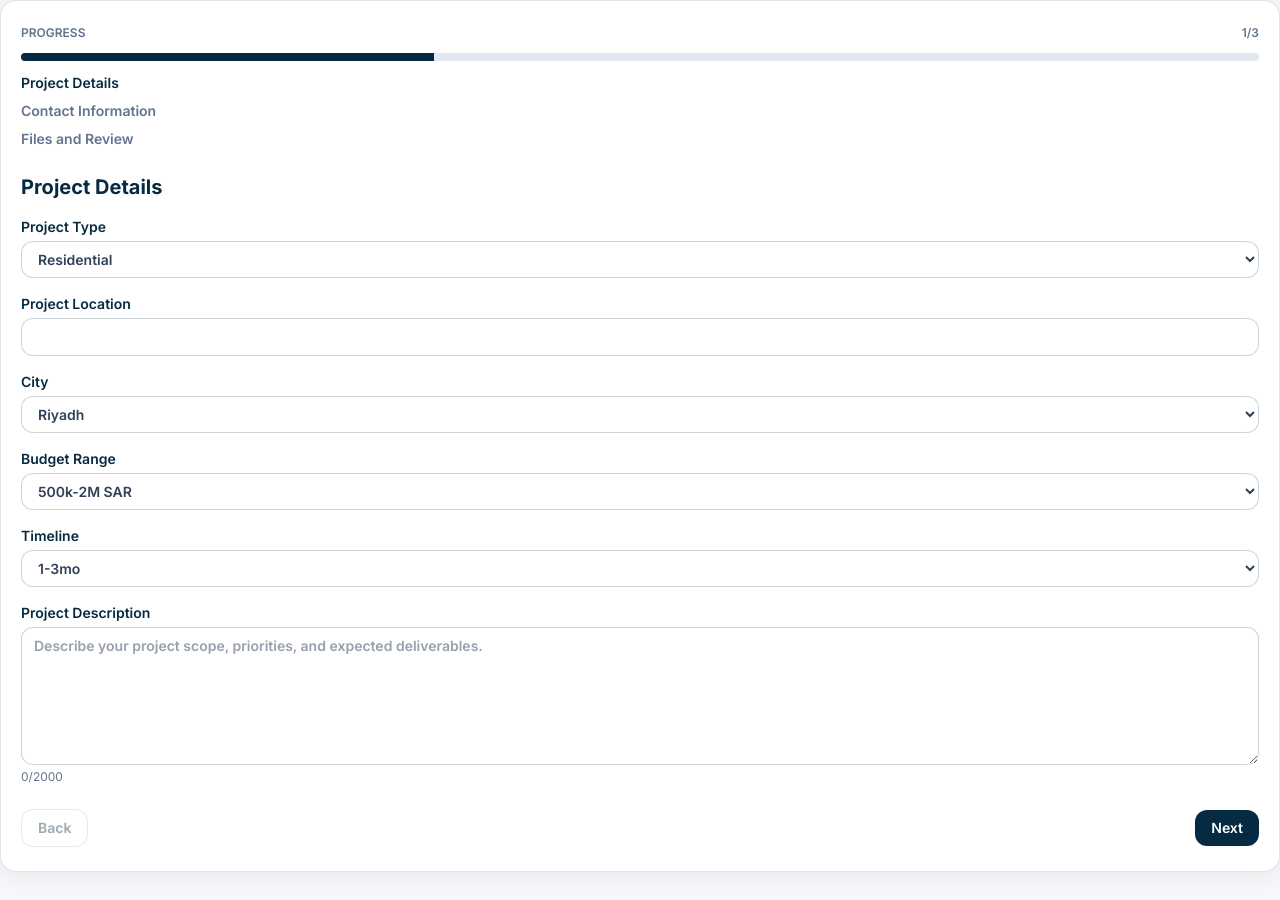
Test case: RFQForm › enforces per-step validation before moving forward
Click the button "Next" at [1227, 828], box [1195,810,1259,846]
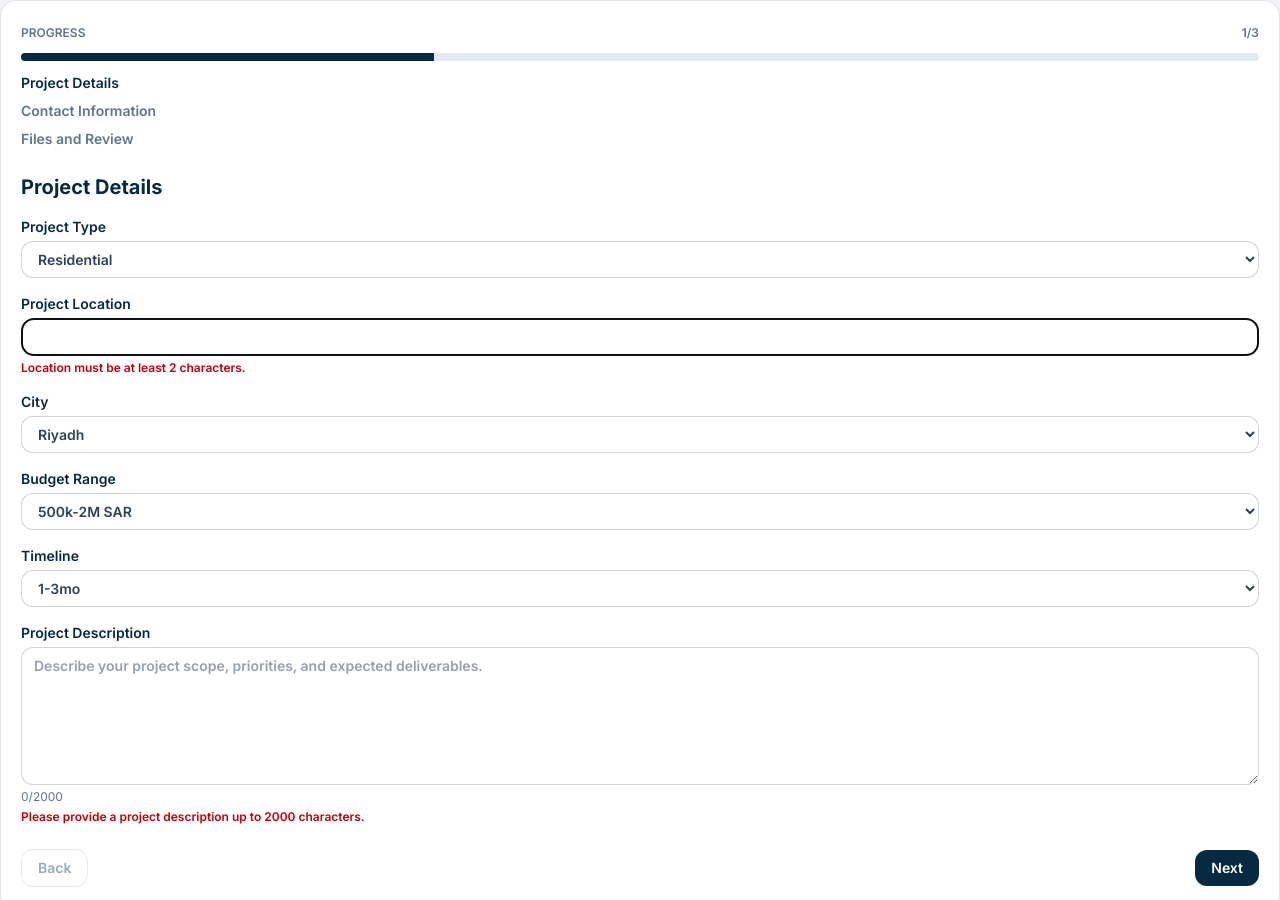
Expected: the text "Location must be at least 2 characters." is shown, [21,360,246,375]
